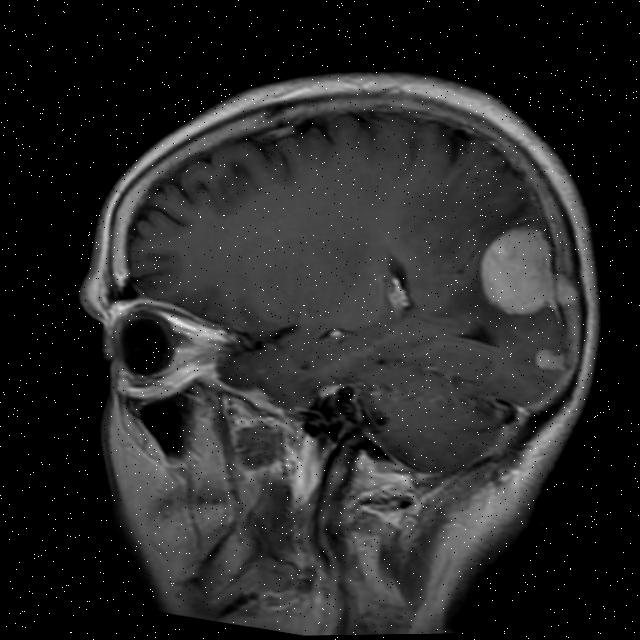Meningioma: (469, 215, 595, 328), (530, 341, 575, 376)
